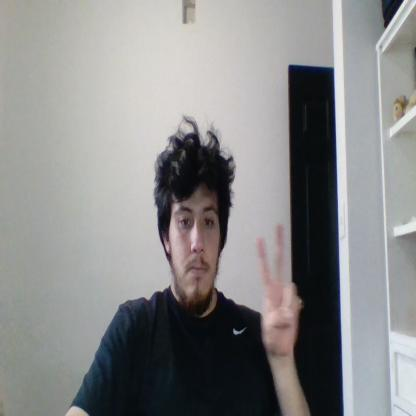V: (256, 224, 298, 357)
